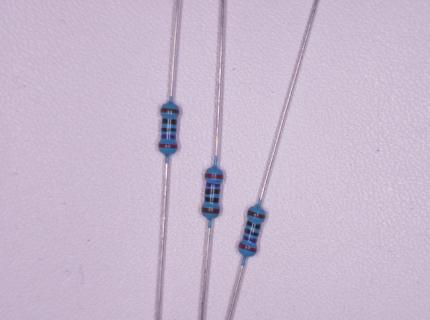Red band: (238, 242, 257, 253), (204, 173, 223, 179), (158, 143, 177, 148)
Violet band: (242, 235, 257, 243), (205, 182, 220, 187), (162, 134, 176, 139)
